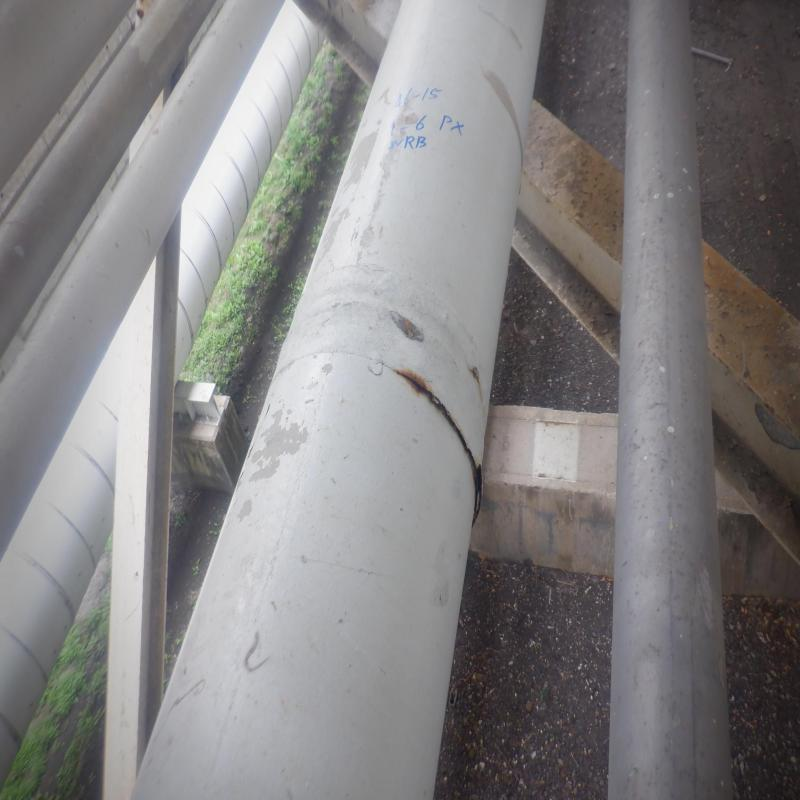corrosion: (404, 354, 432, 393)
